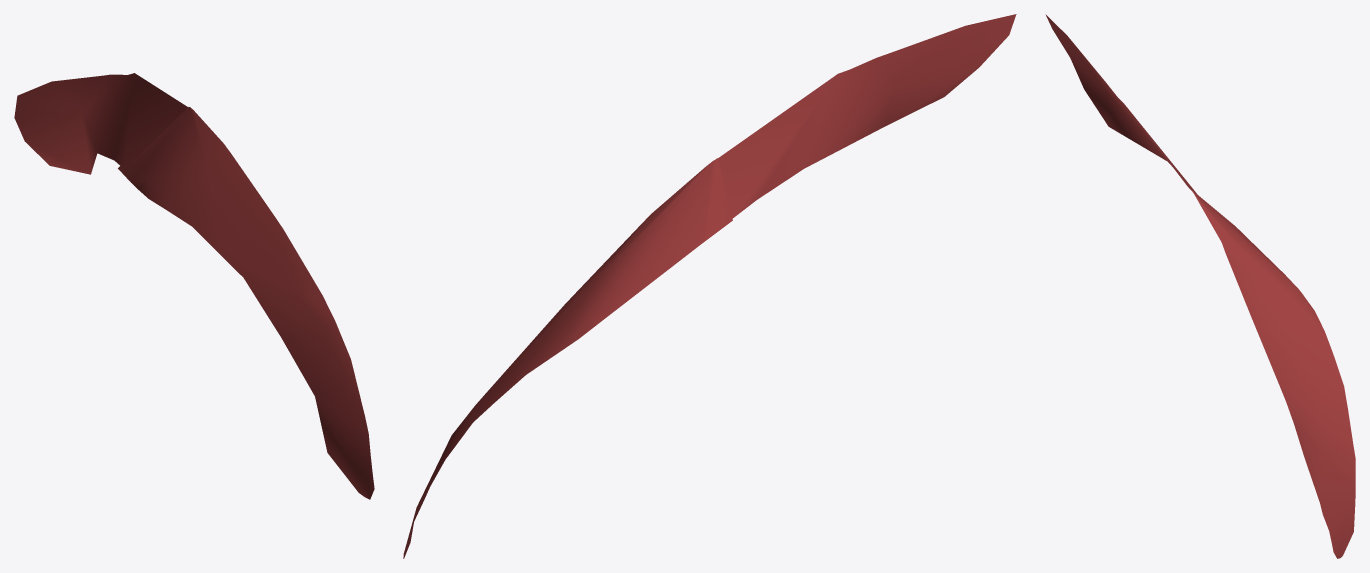
Rendered from latissimus-dorsi-muscle-or.glb.
The picture shows the model from 3 angles, left to right: view 1: azimuth 30°, elevation 25°; view 2: azimuth 150°, elevation 25°; view 3: azimuth 270°, elevation 25°; orthographic projection. The views are drawn at different scales.
Visible parts, largest first — view 1: Latissimus dorsi muscle.or; view 2: Latissimus dorsi muscle.or; view 3: Latissimus dorsi muscle.or.
Boxes of the visible parts, x1,y1,x2,y2 form: Latissimus dorsi muscle.or: (14,73,374,499); Latissimus dorsi muscle.or: (403,14,1016,558); Latissimus dorsi muscle.or: (1045,14,1355,558).
Size of the model in its own units: 0.0484 by 0.0556 by 0.0403.
